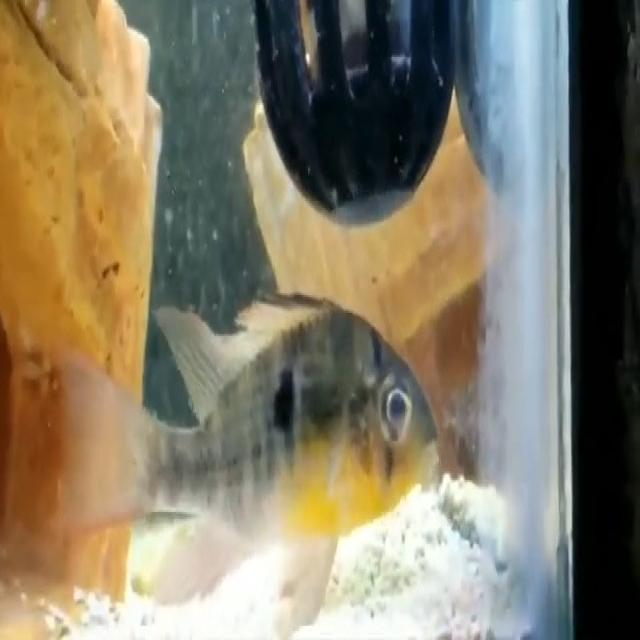fish: (62, 288, 454, 632)
